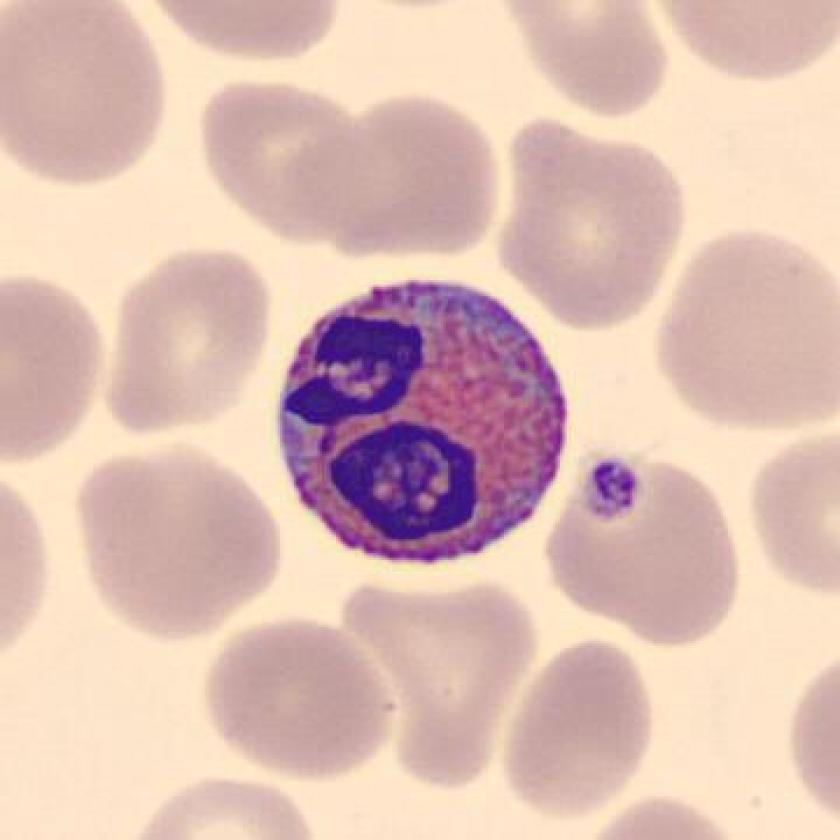eosinophil: (262, 265, 580, 589)
